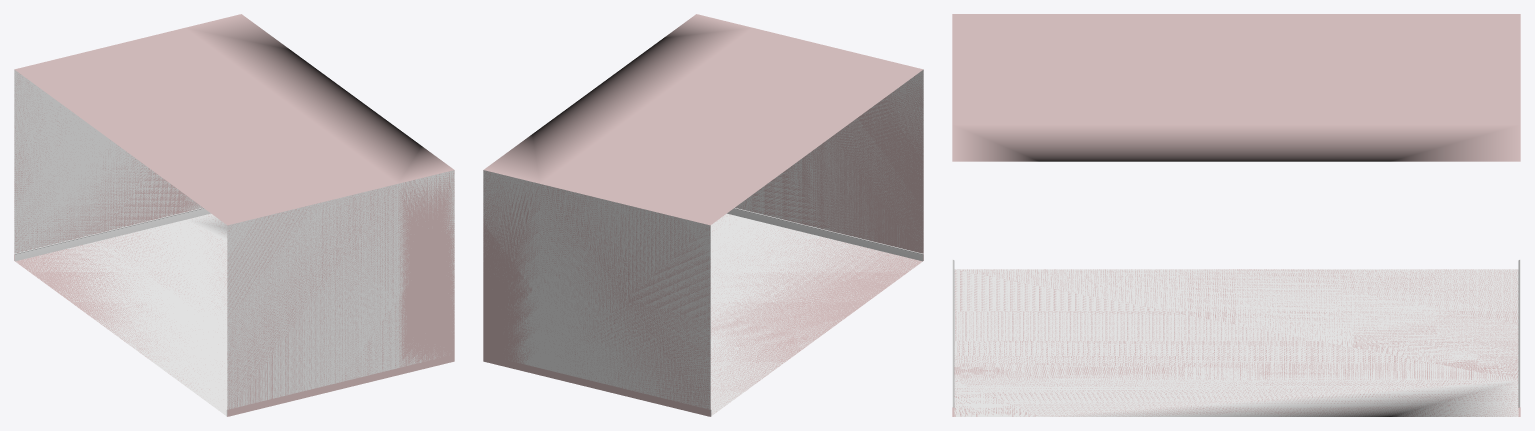
The model's file is TR_SectionA_01.fbx.
3 views of the same model, side by side, from view 1: azimuth 30°, elevation 25°; view 2: azimuth 150°, elevation 25°; view 3: azimuth 270°, elevation 25° (orthographic). The views are drawn at different scales.
Visible parts, largest first — view 1: TR_SectionA_01_LOD0, TR_SectionA_01_Col; view 2: TR_SectionA_01_LOD0, TR_SectionA_01_Col; view 3: TR_SectionA_01_LOD0, TR_SectionA_01_Col.
Part boxes in pixels (left/top/right/bottom): TR_SectionA_01_LOD0: left=14, top=14, right=454, bottom=416; TR_SectionA_01_Col: left=14, top=74, right=454, bottom=416; TR_SectionA_01_LOD0: left=483, top=14, right=923, bottom=416; TR_SectionA_01_Col: left=483, top=70, right=923, bottom=416; TR_SectionA_01_LOD0: left=952, top=14, right=1520, bottom=416; TR_SectionA_01_Col: left=952, top=269, right=1520, bottom=416.
Size of the model in its own units: 400 by 322 by 650.
